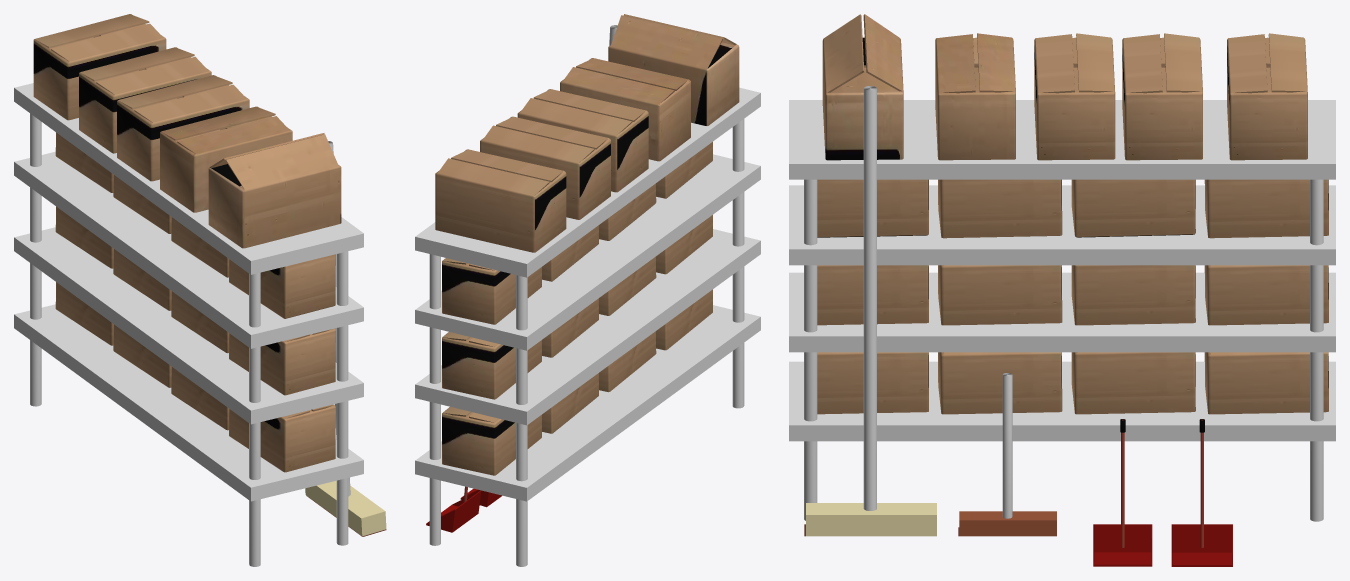
The model's file is store room rack 1 .fbx.
3 renders of one model, left to right at view 1: azimuth 30°, elevation 25°; view 2: azimuth 150°, elevation 25°; view 3: azimuth 270°, elevation 25°, orthographic. The views are drawn at different scales.
Visible parts, largest first — view 1: Plane.002, Plane, Plane.001, Cube.006, Plane.003, Cube.007, Cube.010, Cube.008, Cube.009, Cube.019, Cube.018, Cube.011 (+13 smaller); view 2: Plane.002, Plane, Plane.001, Cube.010, Plane.003, Cube.006, Cube.009, Cube.007, Cube.008, Cube.022, Cube.015, Cube.014 (+13 smaller); view 3: Plane.003, Plane.002, Plane.001, Plane, Cube.008, Cube.010, Cube.007, Cube.009, Cube.006, Cube.021, Cube.016, Cube.017 (+17 smaller).
Part boxes in pixels (bbox=[...]): Plane.002: bbox=[14, 151, 363, 348]; Plane: bbox=[14, 304, 363, 501]; Plane.001: bbox=[14, 227, 363, 424]; Cube.006: bbox=[208, 133, 341, 248]; Plane.003: bbox=[14, 83, 363, 274]; Cube.007: bbox=[160, 106, 292, 212]; Cube.010: bbox=[33, 14, 166, 120]; Cube.008: bbox=[117, 75, 249, 181]; Cube.009: bbox=[79, 47, 211, 153]; Cube.019: bbox=[229, 404, 335, 472]; Cube.018: bbox=[229, 328, 335, 395]; Cube.011: bbox=[229, 254, 335, 318]; Plane.002: bbox=[415, 154, 760, 350]; Plane: bbox=[415, 305, 760, 501]; Plane.001: bbox=[415, 229, 760, 425]; Cube.010: bbox=[435, 149, 566, 252]; Plane.003: bbox=[415, 87, 760, 277]; Cube.006: bbox=[608, 14, 739, 125]; Cube.009: bbox=[480, 116, 610, 219]; Cube.007: bbox=[560, 58, 690, 161]; Cube.008: bbox=[517, 89, 648, 192]; Cube.022: bbox=[442, 406, 541, 475]; Cube.015: bbox=[442, 332, 541, 399]; Cube.014: bbox=[442, 258, 541, 324]; Plane.003: bbox=[789, 100, 1335, 179]; Plane.002: bbox=[789, 185, 1335, 265]; Plane.001: bbox=[789, 272, 1335, 352]; Plane: bbox=[789, 361, 1335, 441]; Cube.008: bbox=[1034, 33, 1115, 160]; Cube.010: bbox=[1227, 33, 1307, 160]; Cube.007: bbox=[935, 33, 1015, 160]; Cube.009: bbox=[1122, 33, 1202, 160]; Cube.006: bbox=[822, 14, 903, 160]; Cube.021: bbox=[1071, 352, 1195, 414]; Cube.016: bbox=[1071, 265, 1195, 325]; Cube.017: bbox=[938, 265, 1062, 325].
Bounding box in the file's own units: 95.31 × 255 × 266.
